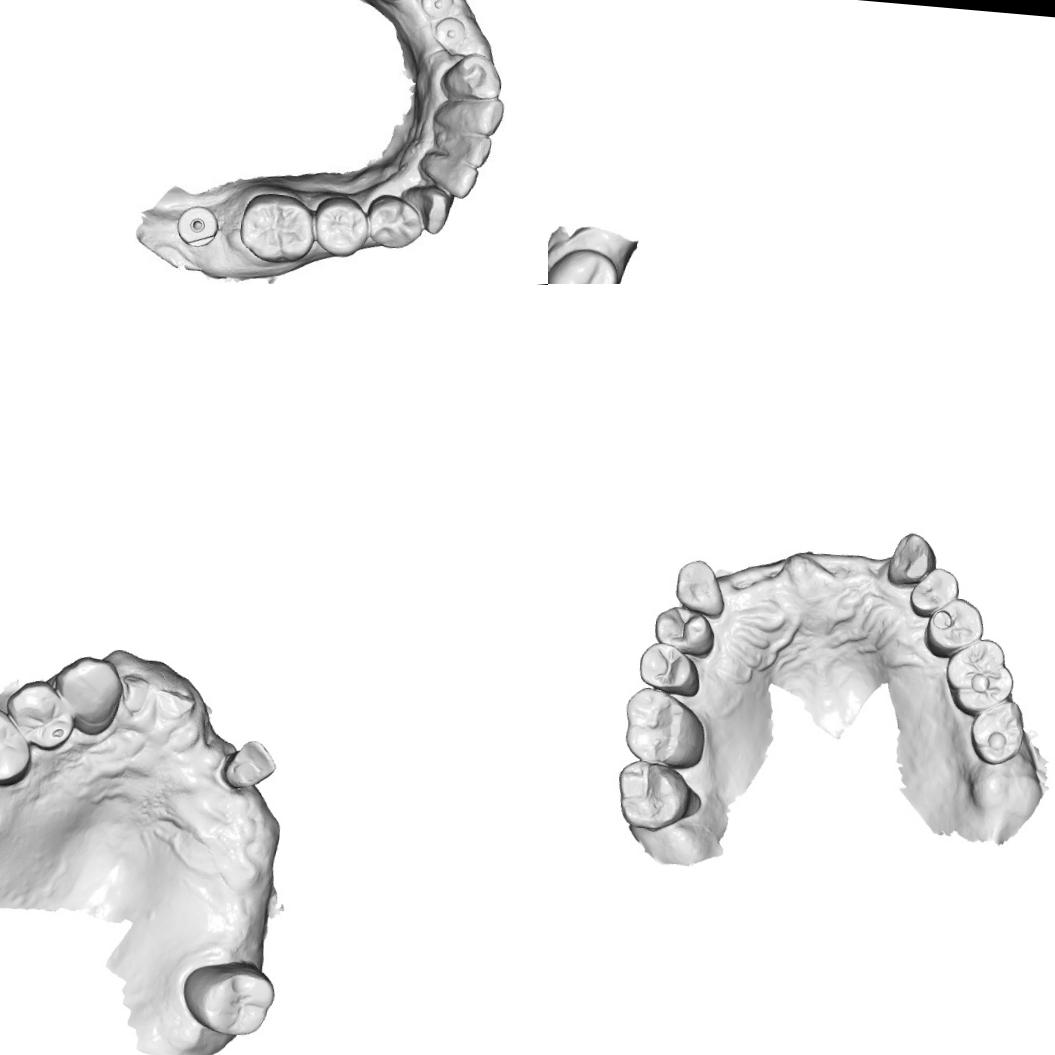canine: (50, 652, 128, 738), (670, 557, 730, 620), (883, 528, 940, 590), (436, 52, 501, 106), (400, 179, 454, 234)
implant: (171, 198, 219, 252), (429, 13, 470, 52), (418, 0, 456, 19)
incisor: (218, 736, 278, 795), (436, 92, 504, 134), (420, 152, 476, 197), (438, 128, 491, 168)
molar: (178, 954, 279, 1040), (620, 684, 710, 771), (610, 755, 706, 836), (939, 633, 1018, 721), (238, 189, 318, 271), (963, 694, 1036, 767), (548, 241, 622, 284)
premolar: (0, 675, 78, 753), (920, 592, 988, 662), (361, 190, 428, 254), (634, 639, 703, 699), (650, 602, 718, 660), (311, 196, 370, 255), (0, 703, 37, 789), (906, 564, 962, 620)
